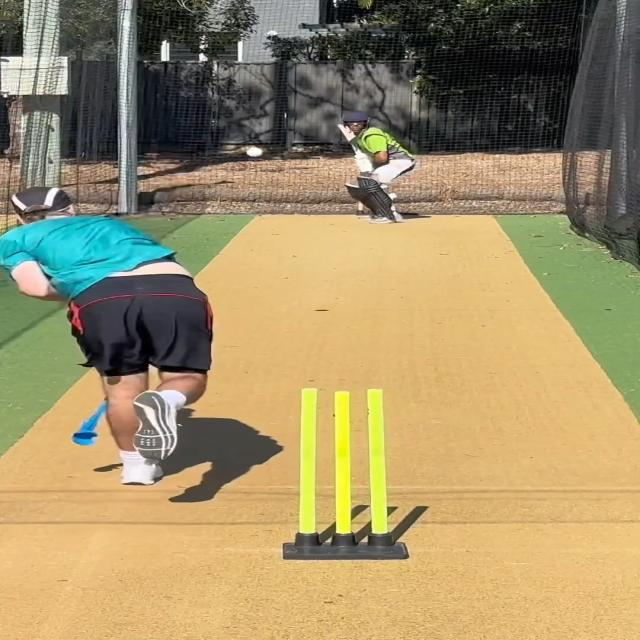ball: (244, 146, 265, 159)
stump: (280, 385, 409, 559)
